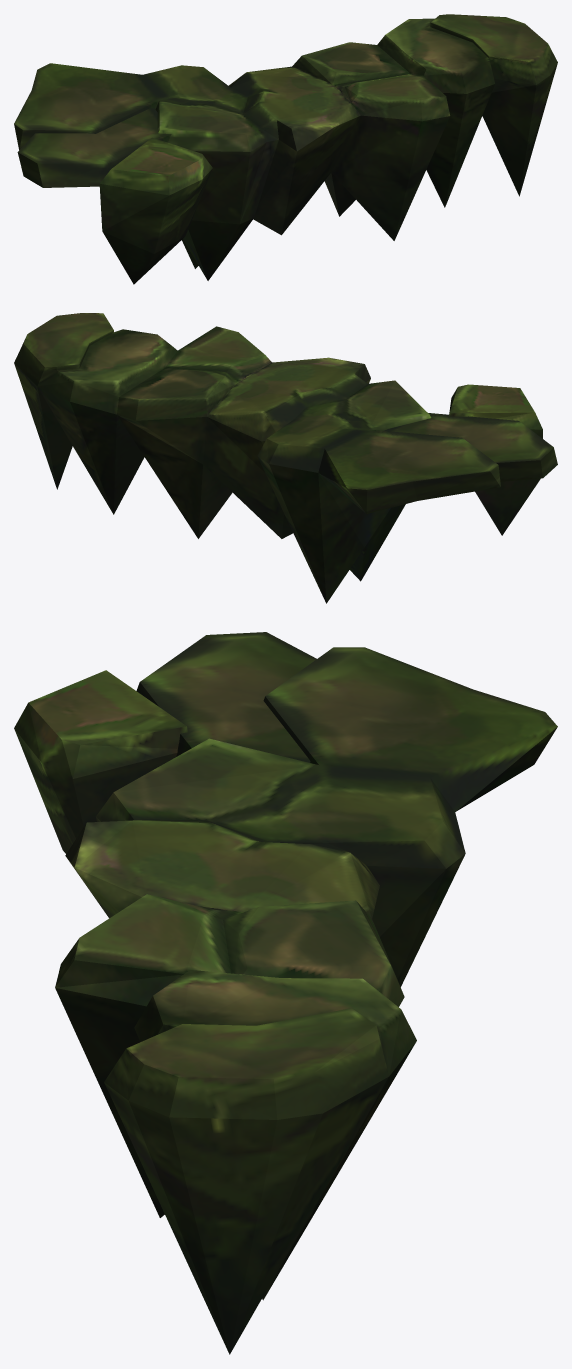
The model's file is Swamp_qiao01.FBX.
3 renders of one model, top to bottom at view 1: azimuth 30°, elevation 25°; view 2: azimuth 150°, elevation 25°; view 3: azimuth 270°, elevation 25°, orthographic. The views are drawn at different scales.
Visible parts, largest first — view 1: 对象001; view 2: 对象001; view 3: 对象001.
Part boxes in pixels (box(x1,y1,x2,y2)): 对象001: box(14, 14, 557, 284); 对象001: box(14, 313, 557, 603); 对象001: box(14, 632, 557, 1354).
Size of the model in its own units: 475 by 162 by 238.
